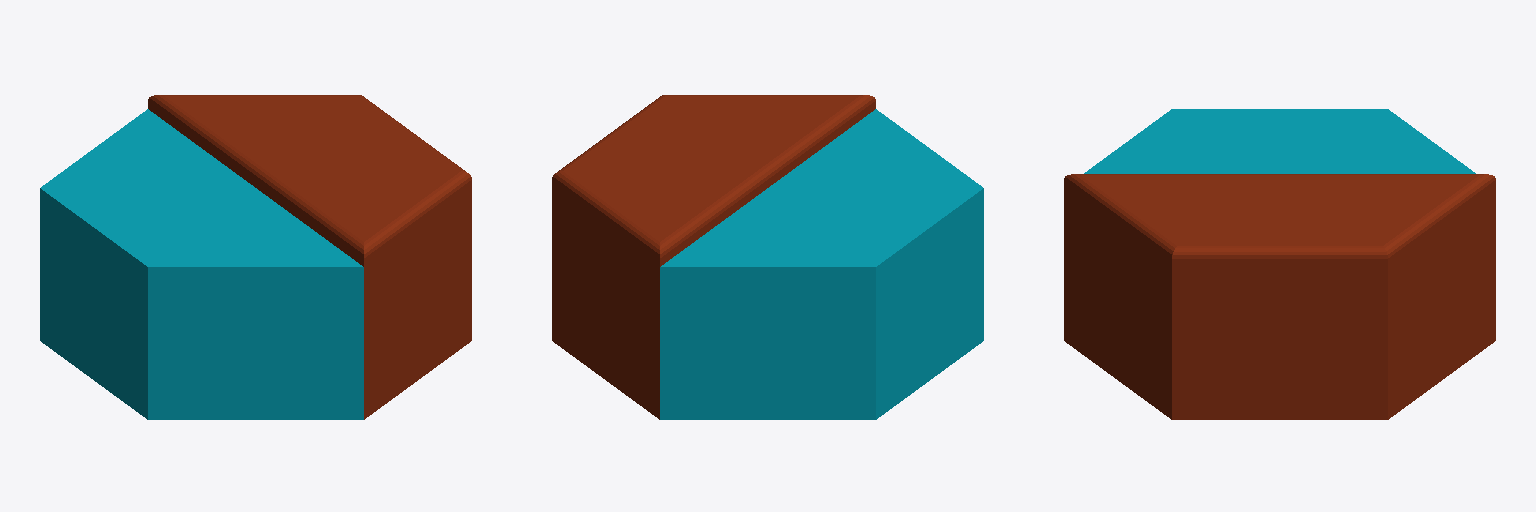
The model's file is hex_rock_waterB.obj.
The picture shows the model from 3 angles: view 1: azimuth 30°, elevation 25°; view 2: azimuth 150°, elevation 25°; view 3: azimuth 270°, elevation 25°; orthographic projection.
Parts seen in each view (by area): view 1: hex_rock_waterB_Cylinder.596; view 2: hex_rock_waterB_Cylinder.596; view 3: hex_rock_waterB_Cylinder.596.
Part boxes in pixels (x1,y1,x2,y2): hex_rock_waterB_Cylinder.596: (40,95,471,419); hex_rock_waterB_Cylinder.596: (552,95,983,419); hex_rock_waterB_Cylinder.596: (1064,109,1495,419).
Bounding box in the file's own units: 2 × 1 × 2.31.